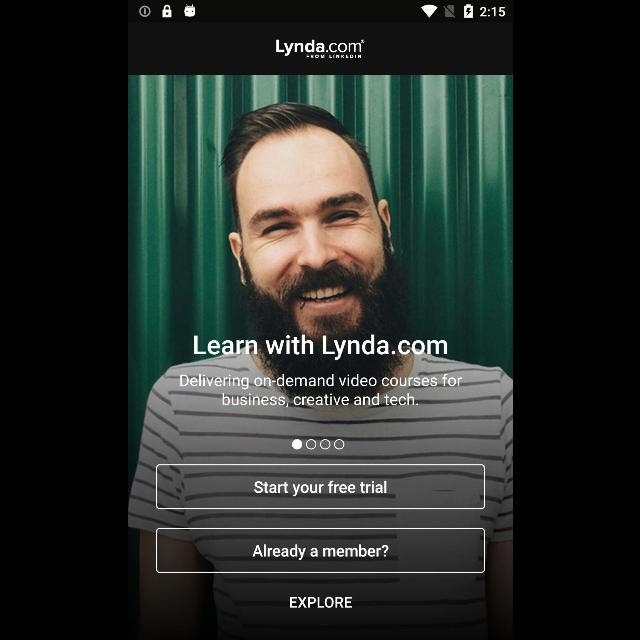backgroundimage: (128, 76, 512, 640)
image: (276, 40, 364, 59)
pageindicator: (292, 439, 344, 451)
text: (179, 373, 461, 407), (193, 335, 447, 361), (289, 596, 351, 608)
textbutton: (156, 464, 484, 510), (156, 528, 484, 572)
uppertaskbar: (128, 1, 512, 23)
